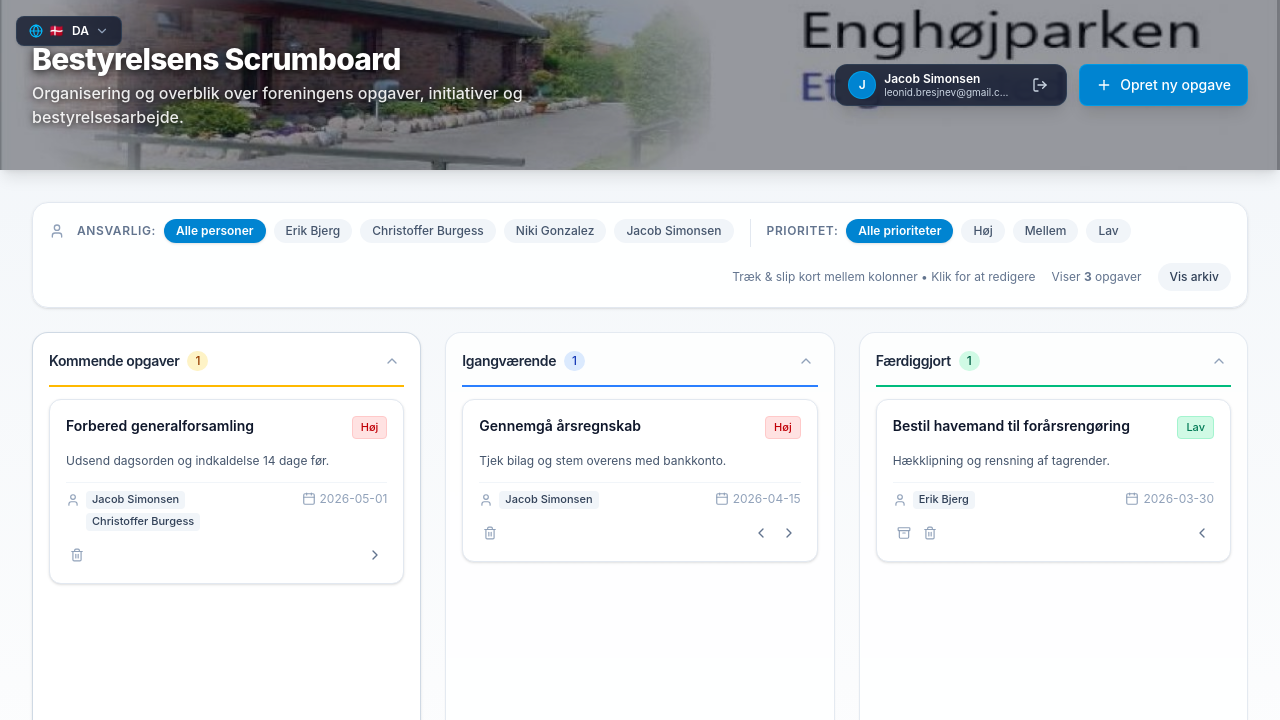
Scenario: Scrumboard Tests with Mock Data › supports collapsing each bucket into a stacked view showing just the title and expands back
Expected: the heading "Forbered generalforsamling" is shown, top-left (66, 417), bottom-right (254, 434)
Expected: the text "Udsend dagsorden og indkaldelse 14 dage før." is shown, top-left (66, 452), bottom-right (329, 468)
Note: Click collapse button
Click the button named "fold kommende opgaver sammen" at (392, 361), box top-left (380, 349), bottom-right (404, 373)
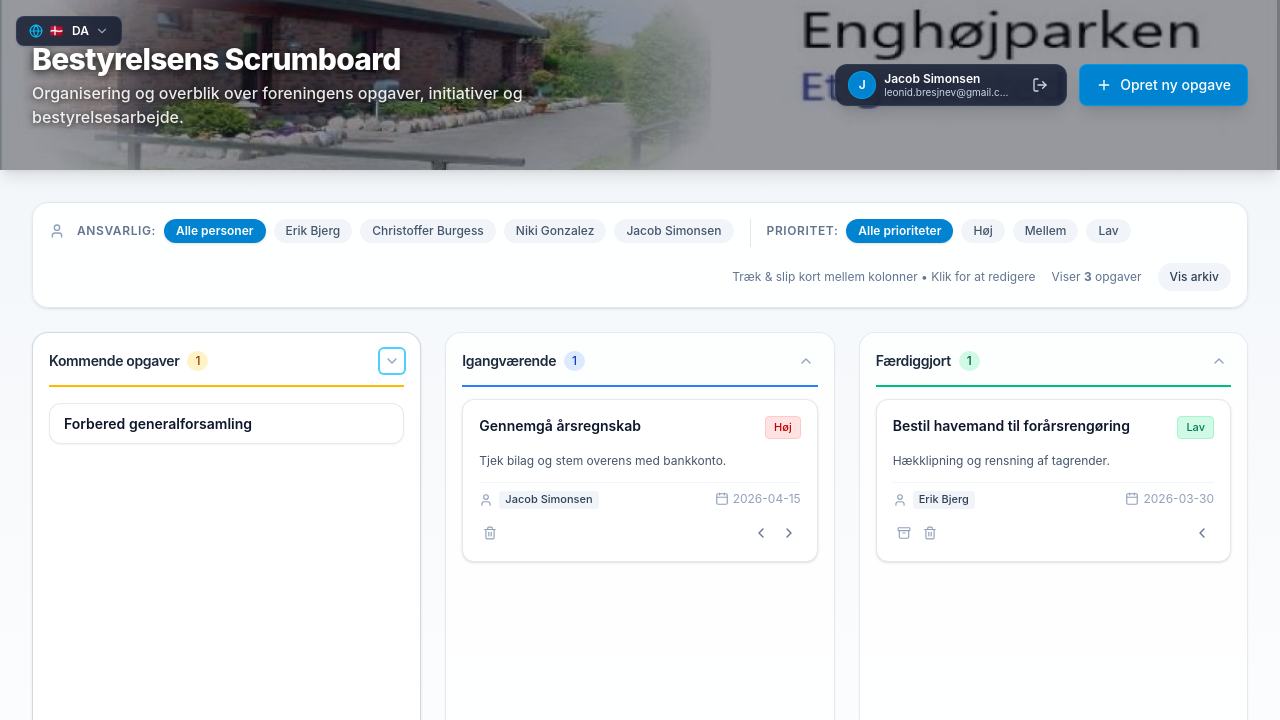
Now the text "Udsend dagsorden og indkaldelse 14 dage før." is gone
Note: Clicking a stacked card still opens the edit modal
Click the heading "Forbered generalforsamling" at (158, 424), box top-left (64, 415), bottom-right (252, 432)
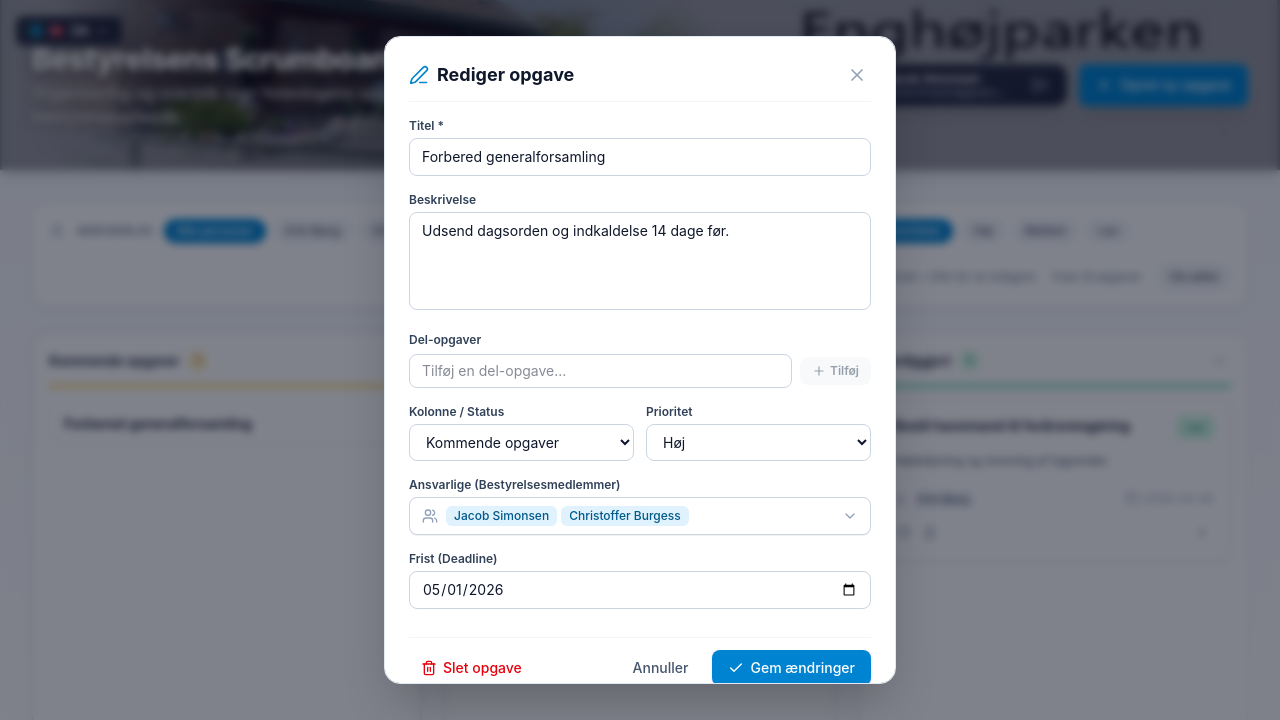
Now the heading "Rediger opgave" is shown, box top-left (437, 61), bottom-right (574, 89)
Now the field showing "Forbered generalforsamling" is shown, box top-left (409, 138), bottom-right (871, 176)
Note: Close the edit modal
Click the button "Annuller" at (661, 668), box top-left (617, 650), bottom-right (704, 686)
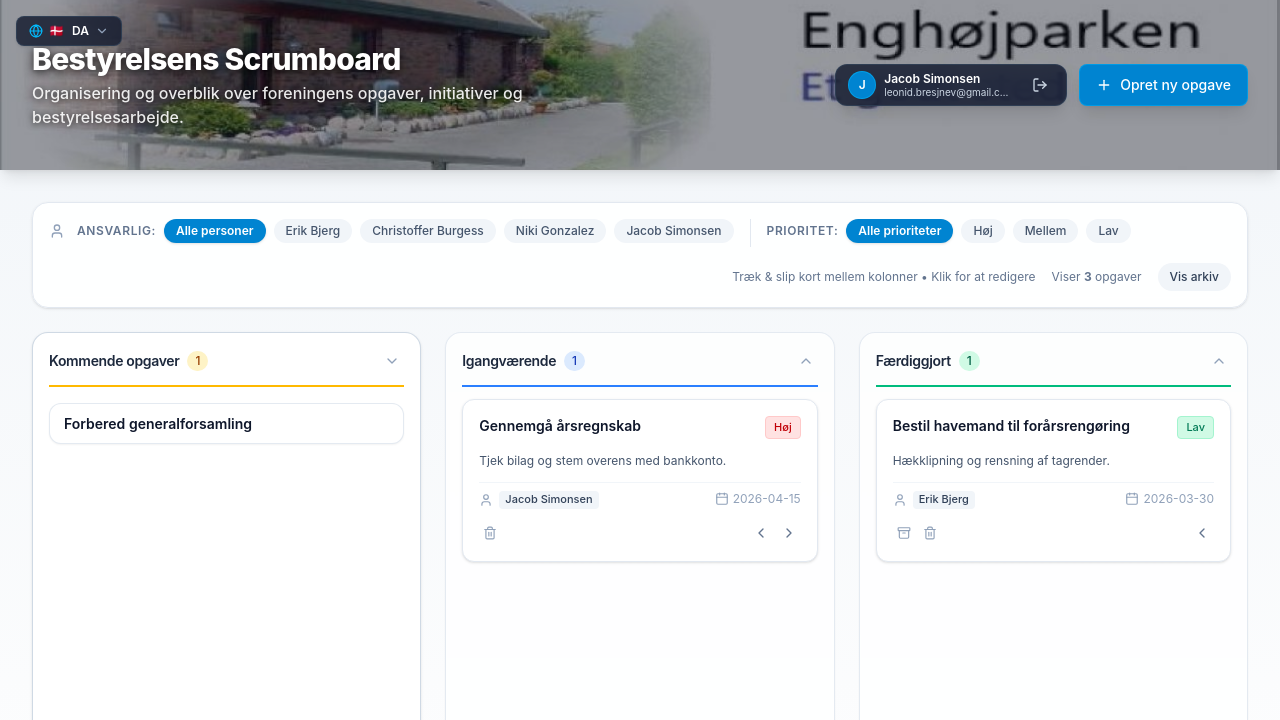
Note: Expand the column back
Click the button named "udvid kommende opgaver" at (392, 361), box top-left (380, 349), bottom-right (404, 373)
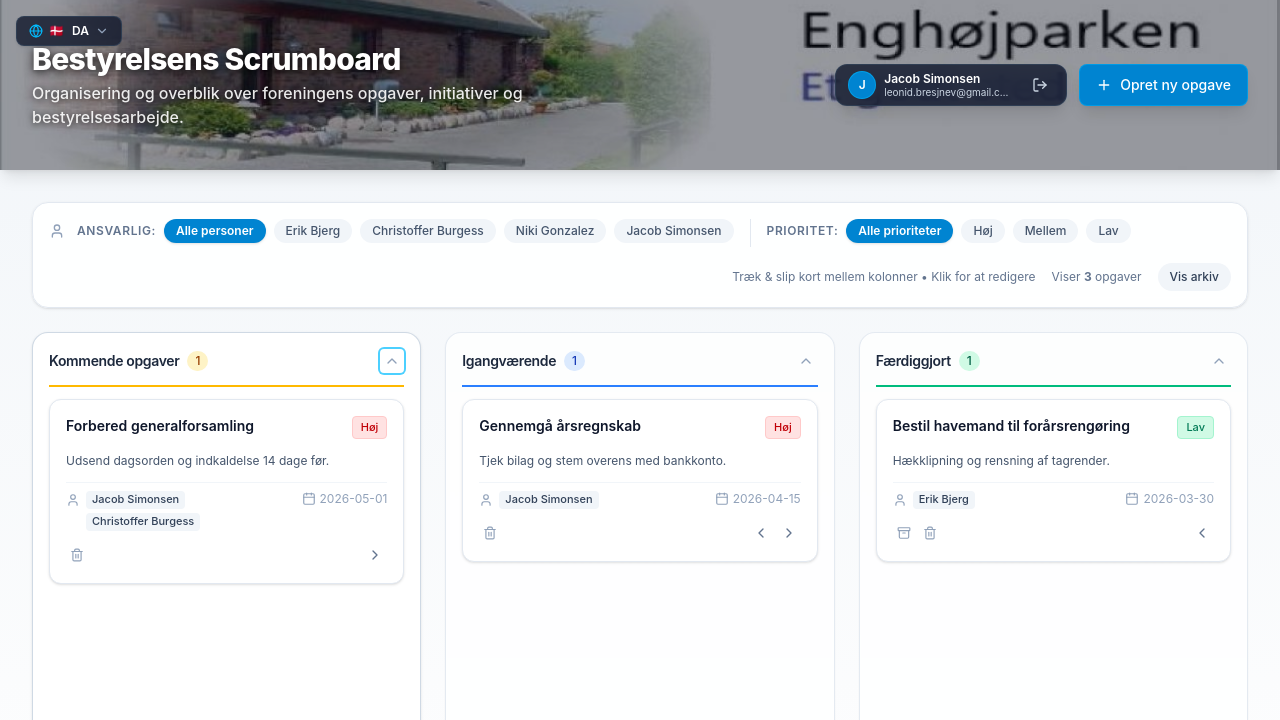
Now the text "Udsend dagsorden og indkaldelse 14 dage før." is shown, box top-left (66, 452), bottom-right (329, 468)
Note: Igangværende and Færdiggjort buckets can also be collapsed independently
Click the button named "fold igangværende sammen" at (806, 361), box top-left (794, 349), bottom-right (818, 373)
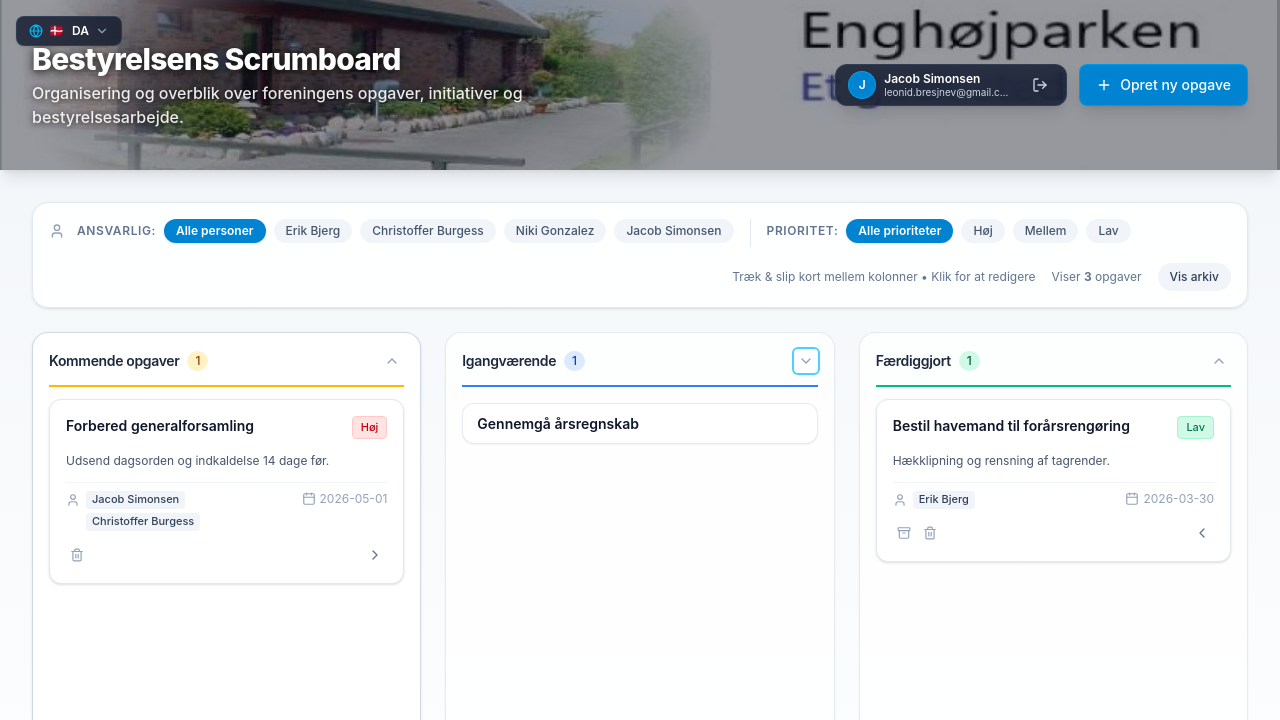
Expected: the heading "Gennemgå årsregnskab" is shown, top-left (477, 415), bottom-right (639, 432)
Now the text "Tjek bilag og stem overens med bankkonto." is gone
Click the button named "fold færdiggjort sammen" at (1219, 361), box top-left (1207, 349), bottom-right (1231, 373)
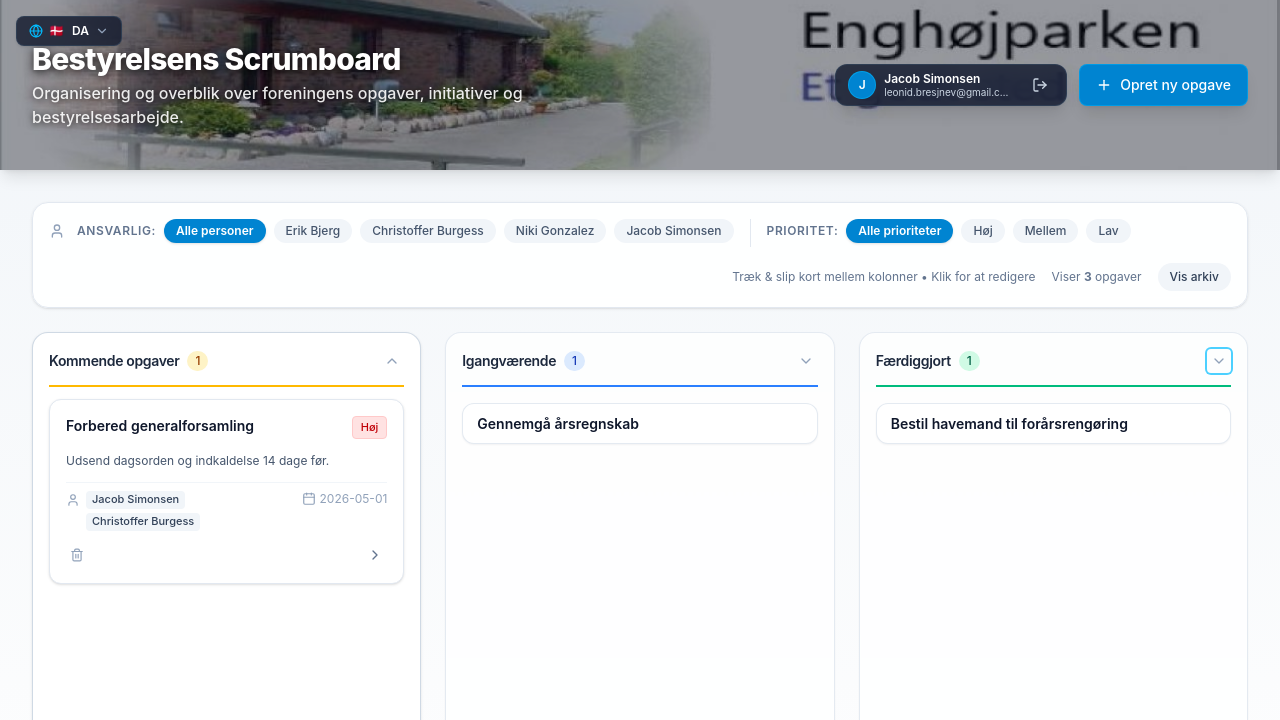
Expected: the heading "Bestil havemand til forårsrengøring" is shown, top-left (891, 415), bottom-right (1128, 432)
Now the text "Hækklipning og rensning af tagrender." is gone
